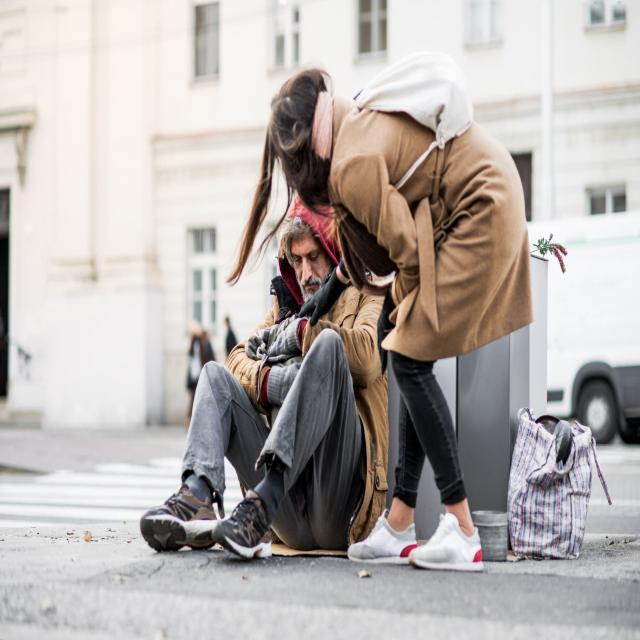sem_oculos: (278, 240, 335, 273)
